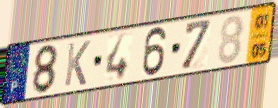4: (104, 31, 131, 82)
6: (141, 25, 168, 78)
7: (183, 19, 213, 73)
8: (216, 13, 246, 66), (31, 43, 60, 96)
K: (62, 39, 92, 89)
